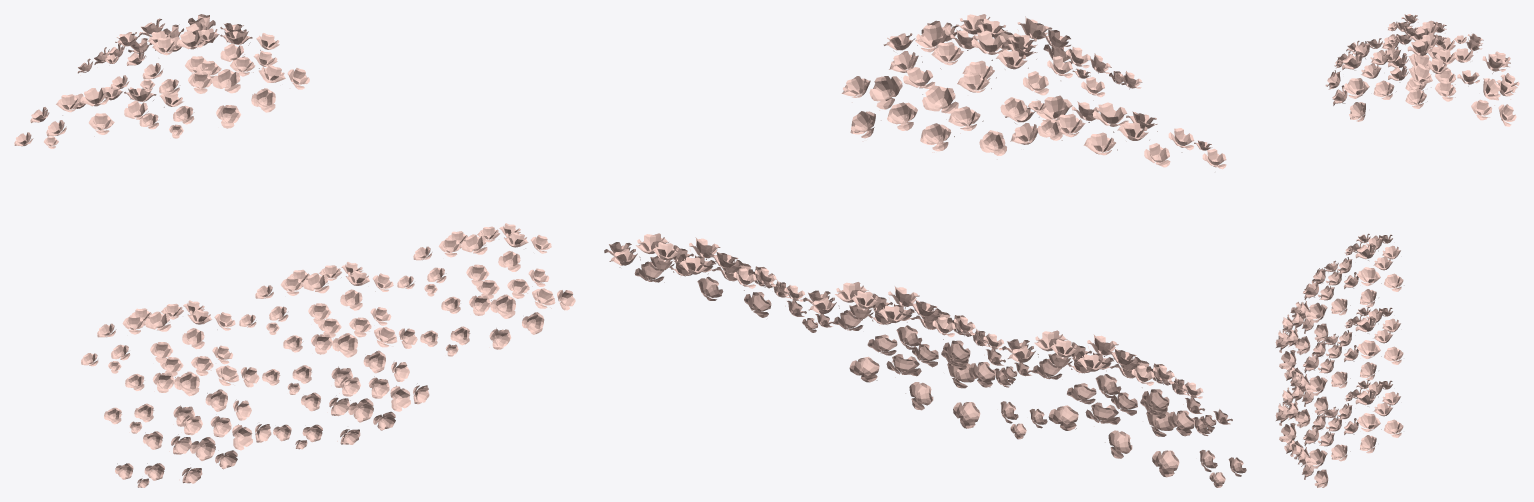
File: 19_openskp_material_66.obj
The picture shows the model from 3 angles, left to right: view 1: azimuth 30°, elevation 25°; view 2: azimuth 150°, elevation 25°; view 3: azimuth 270°, elevation 25°; orthographic projection. The views are drawn at different scales.
Visible parts, largest first — view 1: 19_openskp_material_66; view 2: 19_openskp_material_66; view 3: 19_openskp_material_66.
Boxes of the visible parts, x1=… form: 19_openskp_material_66: x1=14, y1=14, x2=575, y2=487; 19_openskp_material_66: x1=604, y1=14, x2=1246, y2=487; 19_openskp_material_66: x1=1275, y1=14, x2=1519, y2=487.
Bounding box in the file's own units: 45.75 × 32.59 × 19.93.
